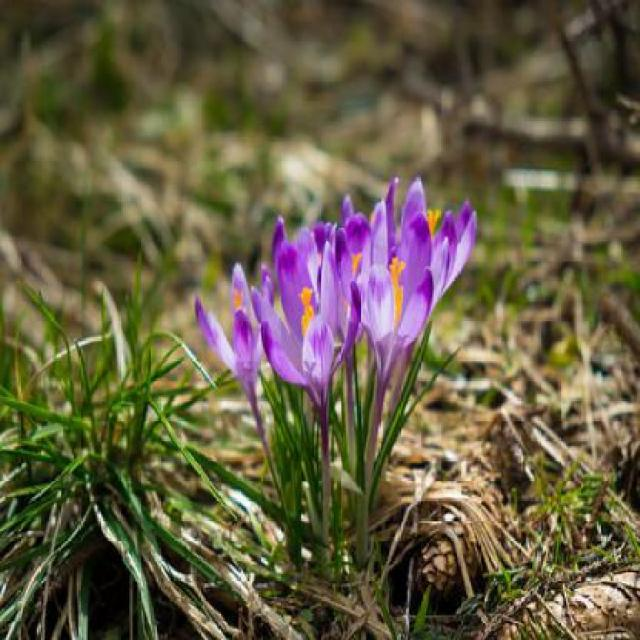Flower: (261, 248, 367, 414), (338, 215, 436, 382), (375, 181, 487, 310), (191, 258, 277, 396)
